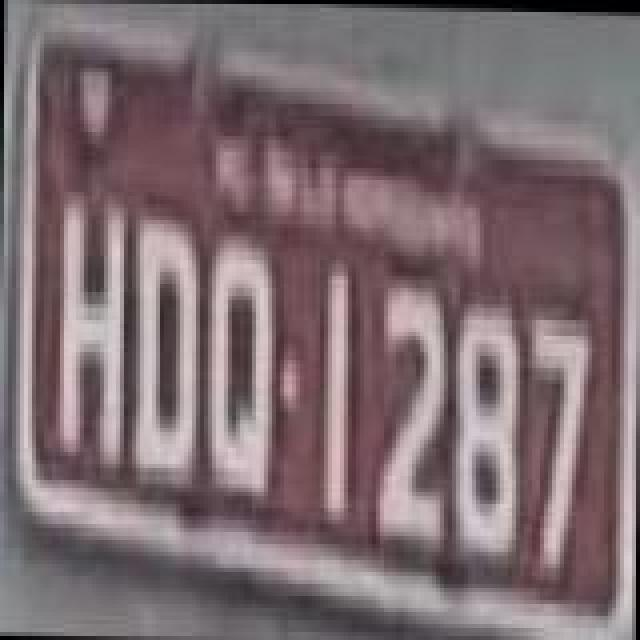1: (316, 266, 352, 526)
2: (372, 272, 456, 556)
7: (522, 298, 594, 570)
8: (450, 302, 522, 562)
D: (132, 202, 204, 486)
H: (56, 194, 136, 466)
Q: (200, 232, 280, 504)
